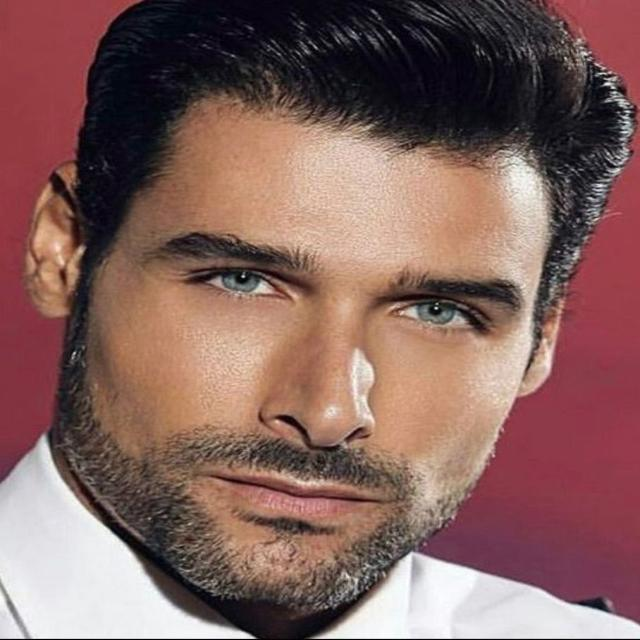front: (148, 182, 522, 562)
